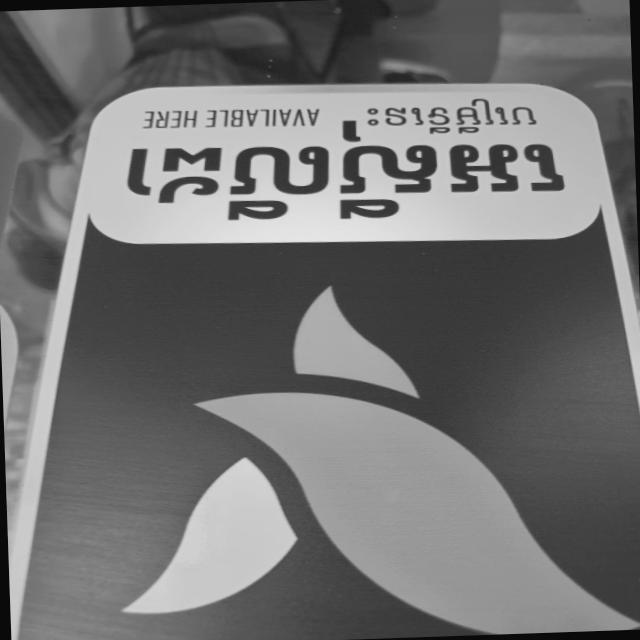Yolov11_80vkh: (114, 129, 578, 227), (363, 96, 547, 138)
